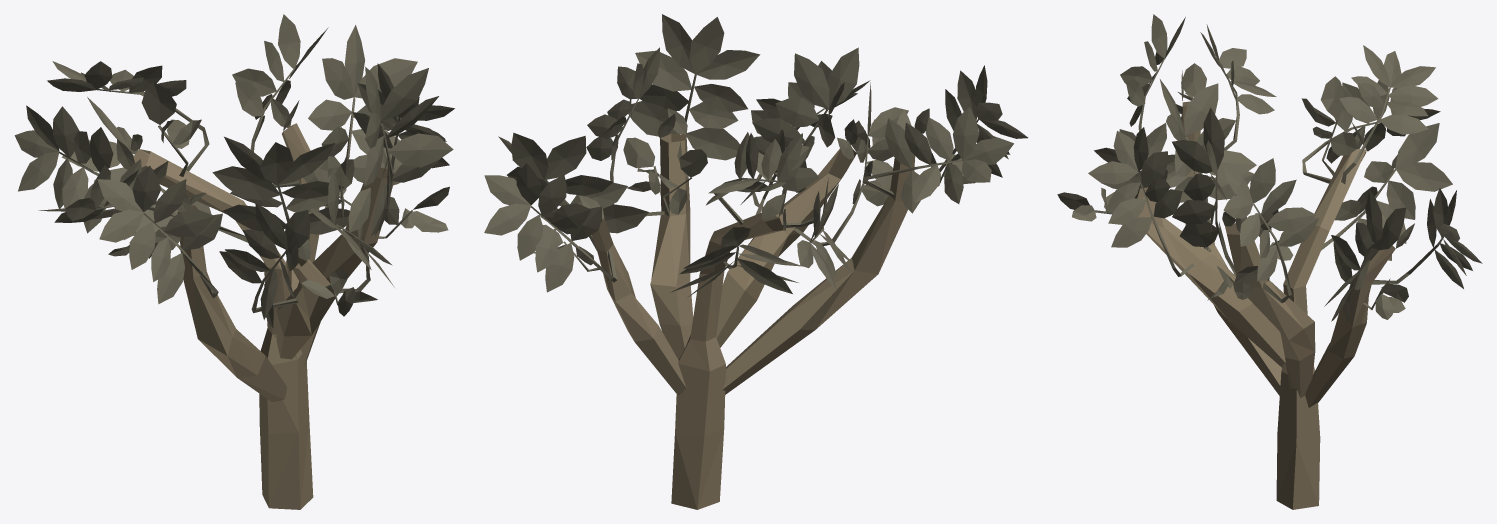
File: Apple_6_4.fbx
3 views of the same model, side by side, from view 1: azimuth 30°, elevation 25°; view 2: azimuth 150°, elevation 25°; view 3: azimuth 270°, elevation 25° (orthographic). The views are drawn at different scales.
Visible parts, largest first — view 1: Apple_6_4; view 2: Apple_6_4; view 3: Apple_6_4.
Boxes of the visible parts, left/top/right/bottom form: Apple_6_4: left=14, top=14, right=454, bottom=509; Apple_6_4: left=484, top=14, right=1028, bottom=509; Apple_6_4: left=1057, top=14, right=1482, bottom=509.
Bounding box in the file's own units: 367 × 363 × 345.
